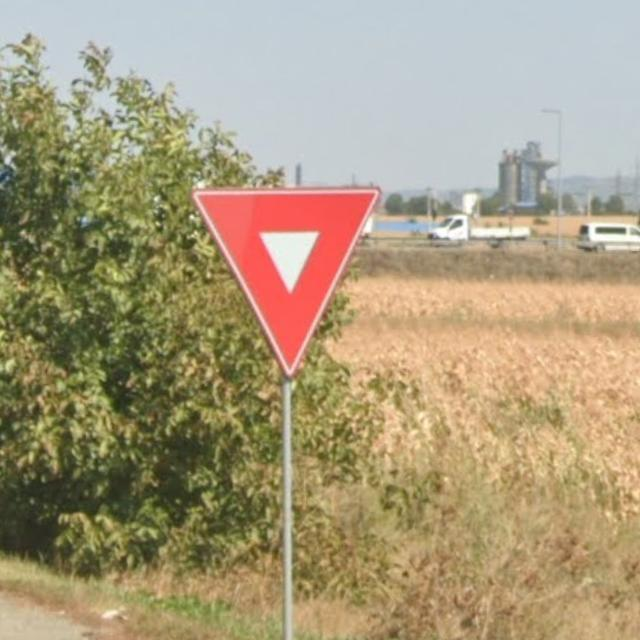prio_give_way: (190, 187, 379, 373)
